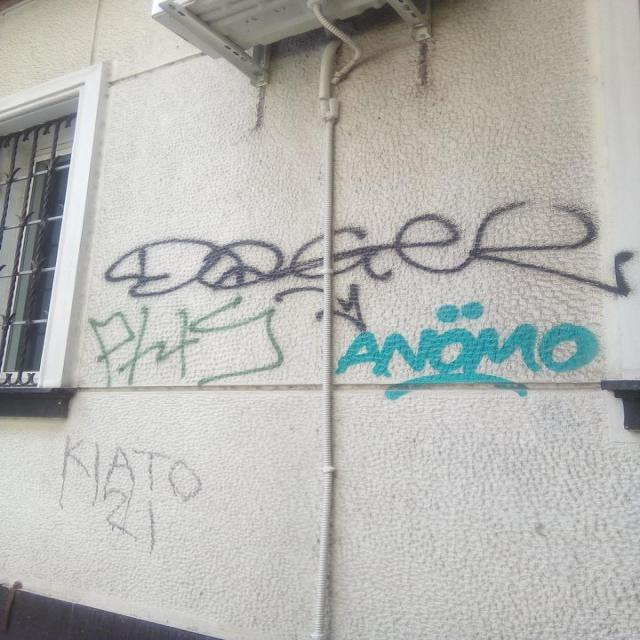nonspitting: (106, 200, 634, 332), (335, 302, 600, 399), (84, 297, 282, 388), (58, 434, 205, 548)
